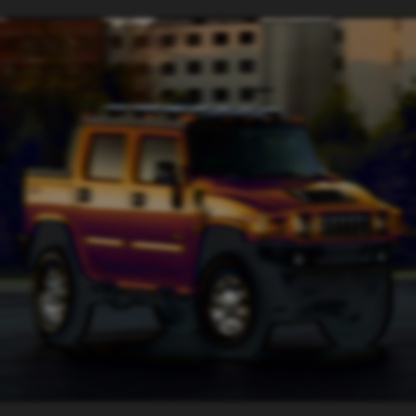Vehicle: (20, 95, 408, 361)
